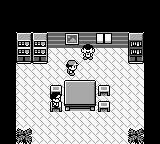leer: (65, 33, 79, 44)
main: (66, 60, 79, 75)
no-caminable: (0, 0, 159, 143), (64, 81, 96, 111), (17, 33, 48, 63), (79, 32, 128, 48), (128, 33, 143, 63), (48, 32, 65, 48), (128, 128, 144, 143), (16, 128, 32, 143)
npc: (81, 44, 95, 60), (50, 93, 62, 108)
